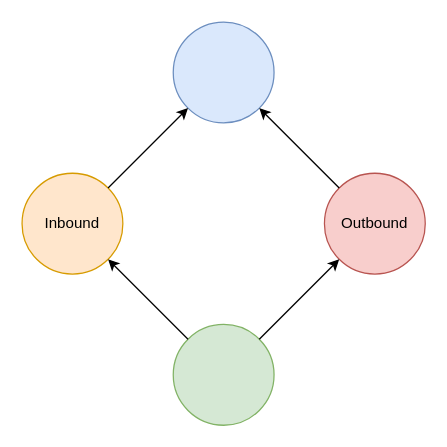
This 447x447 diagram has some shape labels left out. Here are the shapes that lost their labels. From the top down, the centre of each, then its label:
(223,72): Core
(223,374): Hexagonal Application
